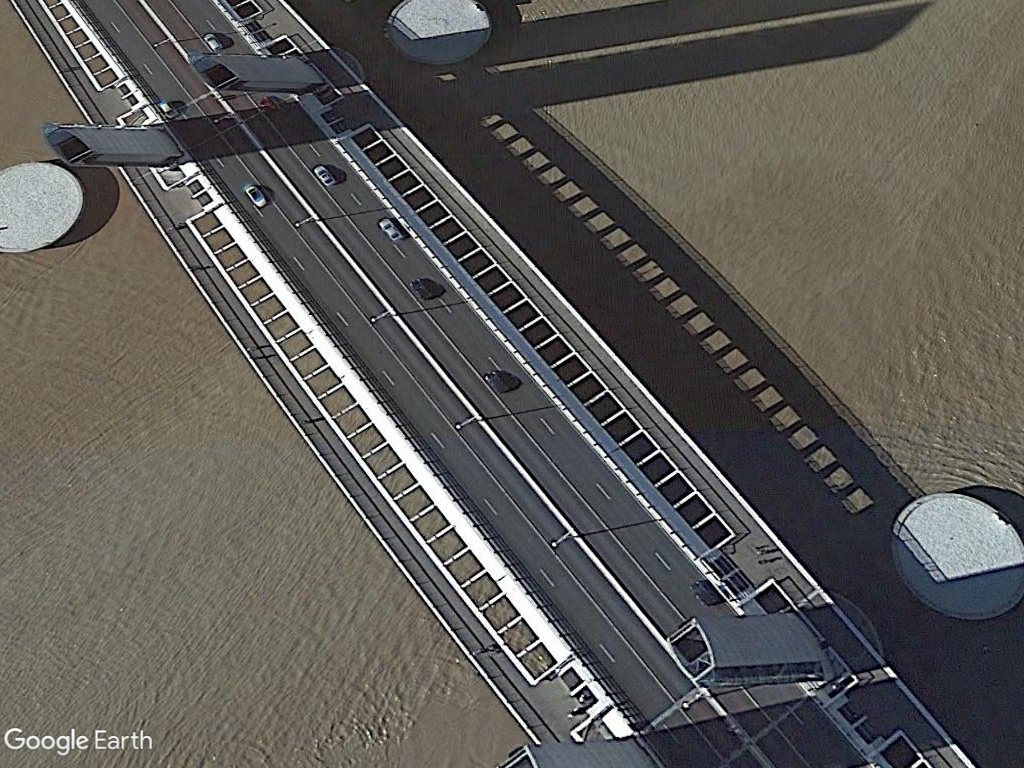car: (375, 211, 408, 250), (310, 160, 340, 193)
